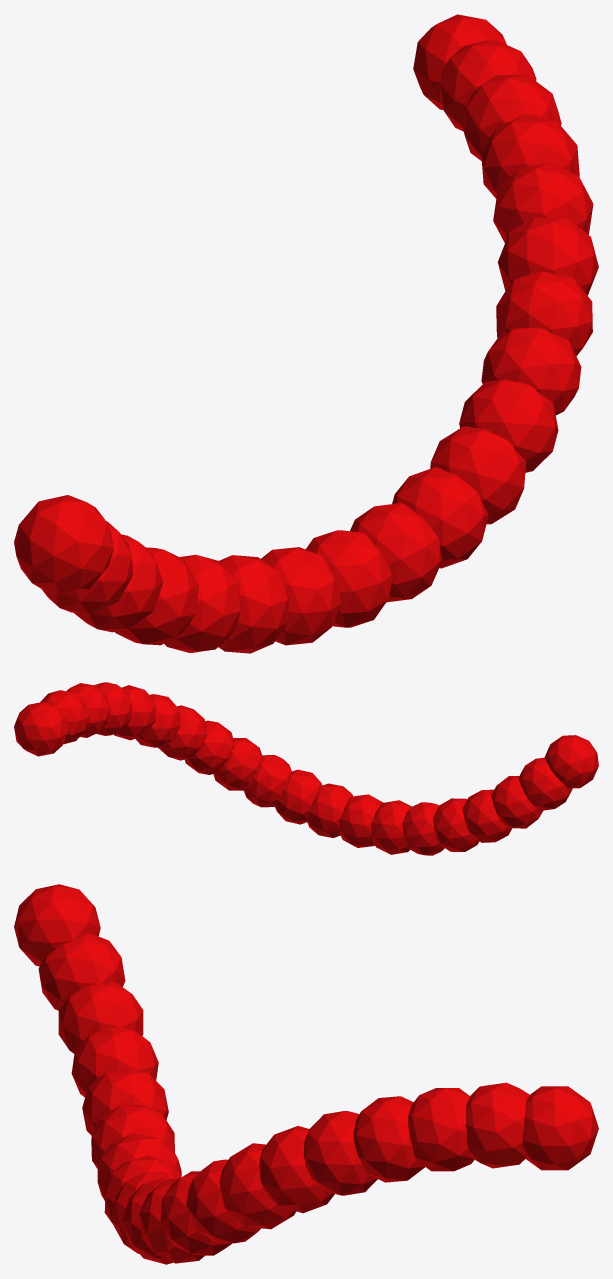
Rendered from barometer_pipe.glb.
The picture shows the model from 3 angles, top to bottom: view 1: azimuth 30°, elevation 25°; view 2: azimuth 150°, elevation 25°; view 3: azimuth 270°, elevation 25°; orthographic projection. The views are drawn at different scales.
Parts seen in each view (by area): view 1: Icosphere; view 2: Icosphere; view 3: Icosphere.
Boxes of the visible parts, x1,y1,x2,y2 form: Icosphere: (14, 14, 598, 653); Icosphere: (14, 682, 598, 855); Icosphere: (14, 884, 598, 1264).
Bounding box in the file's own units: 17.51 × 7.54 × 13.27.
